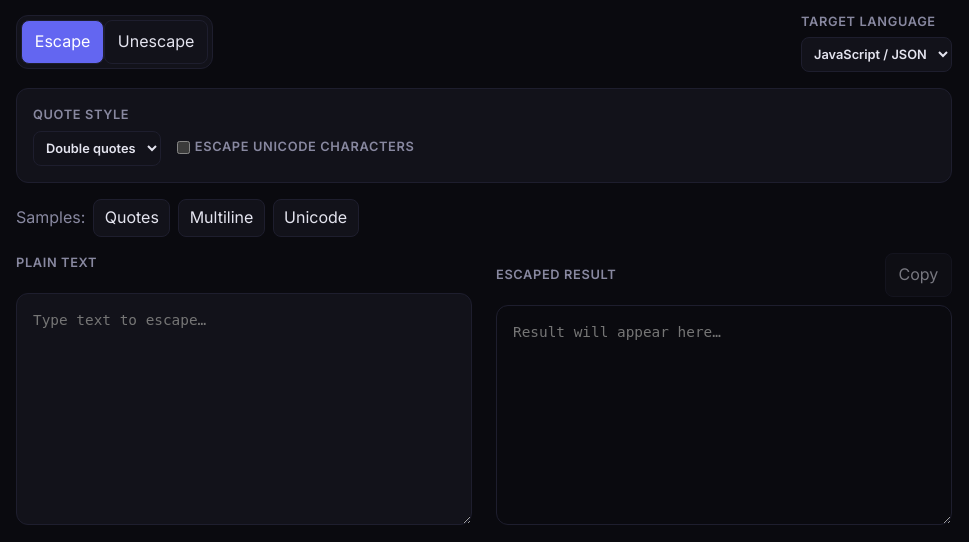
StringEscaperTool › switches modes and languages to unescape HTML
Click the button "Unescape": x=156, y=42 left=104, top=20, right=208, bottom=64
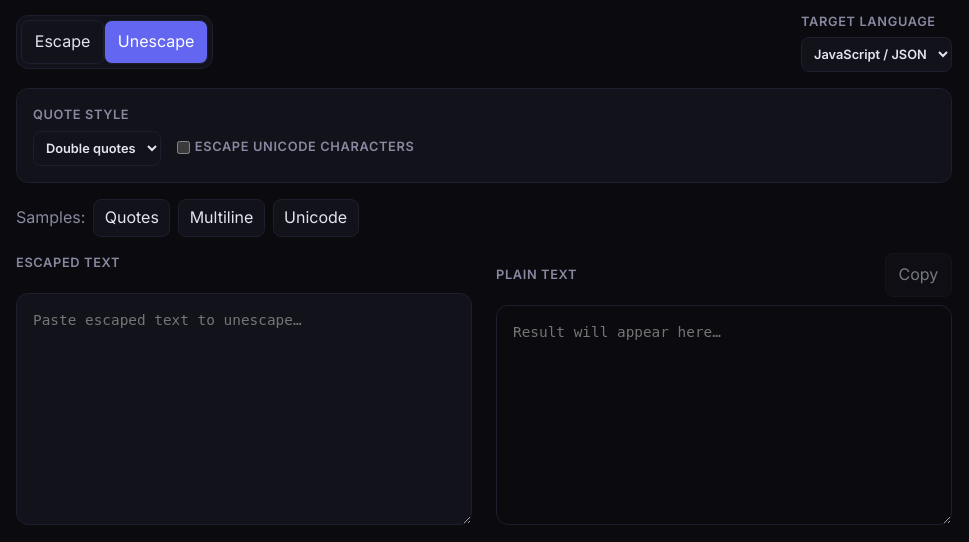
Select "HTML" in the dropdown labelled "Target language": x=876, y=55 left=801, top=37, right=952, bottom=72
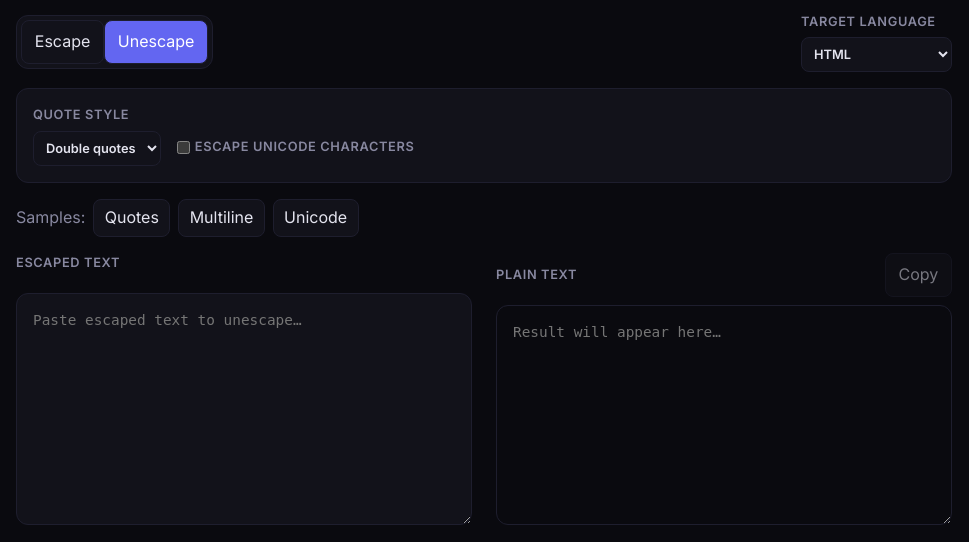
In the text box labelled "Escaped text": x=244, y=409 left=16, top=293, right=472, bottom=525, type "&lt;ok&gt;"
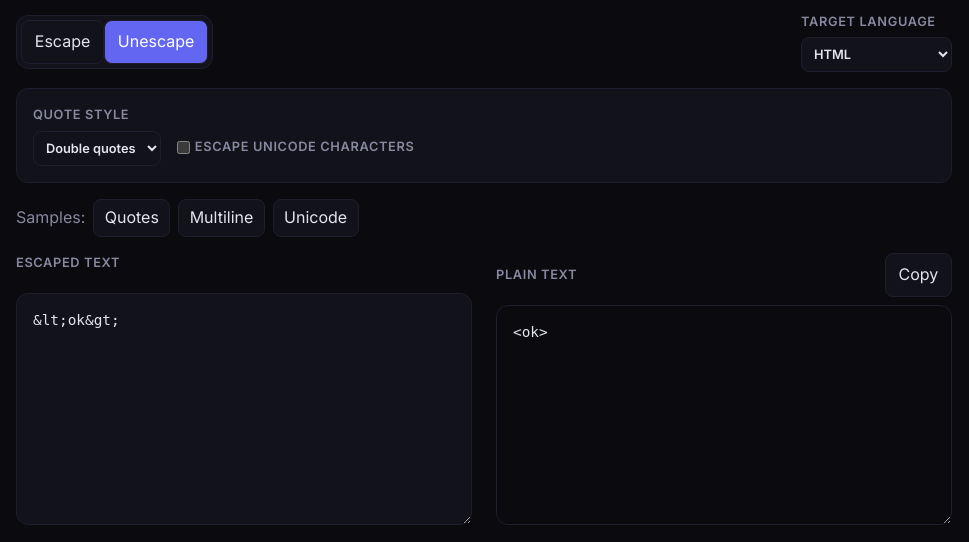
Expected: the text box labelled "Plain text" holds "<ok>", left=496, top=305, right=952, bottom=525
